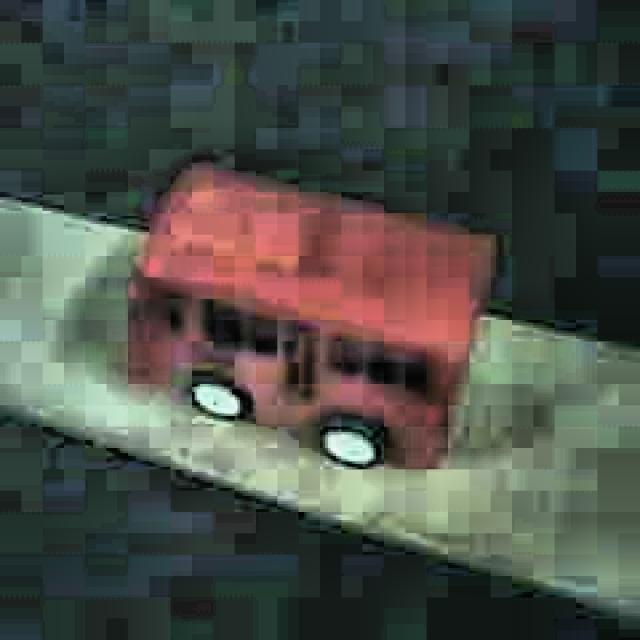bus: (125, 157, 495, 474)
